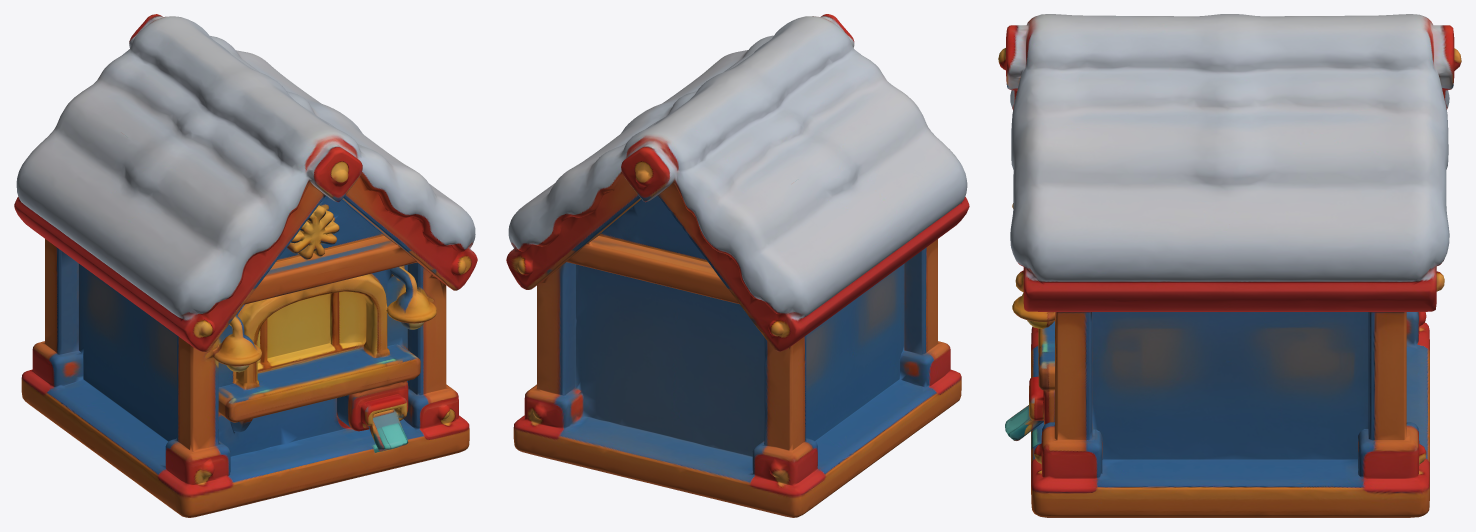
File: ski_resort_ticket_booth.fbx
The picture shows the model from 3 angles, left to right: view 1: azimuth 30°, elevation 25°; view 2: azimuth 150°, elevation 25°; view 3: azimuth 270°, elevation 25°; orthographic projection. The views are drawn at different scales.
Parts seen in each view (by area): view 1: tripo_node_d8c3ae1c; view 2: tripo_node_d8c3ae1c; view 3: tripo_node_d8c3ae1c.
Boxes of the visible parts, box(x1,y1,x2,y2) form: tripo_node_d8c3ae1c: box(14, 14, 477, 517); tripo_node_d8c3ae1c: box(506, 14, 969, 517); tripo_node_d8c3ae1c: box(998, 14, 1461, 517).
Size of the model in its own units: 0.8934 by 0.9999 by 0.9997.
1 material, 1 textured.
